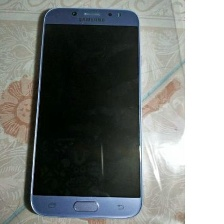phone: (26, 5, 147, 221)
